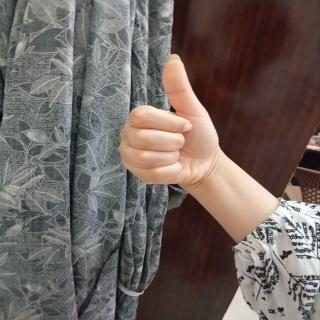ALIF: (114, 50, 224, 208)
